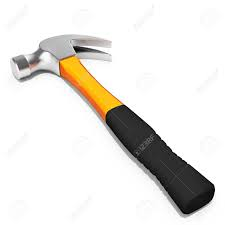martillu: (9, 30, 218, 217)
